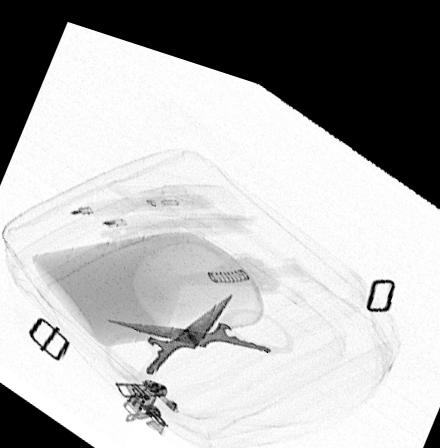Scissors: (101, 276, 294, 377)
